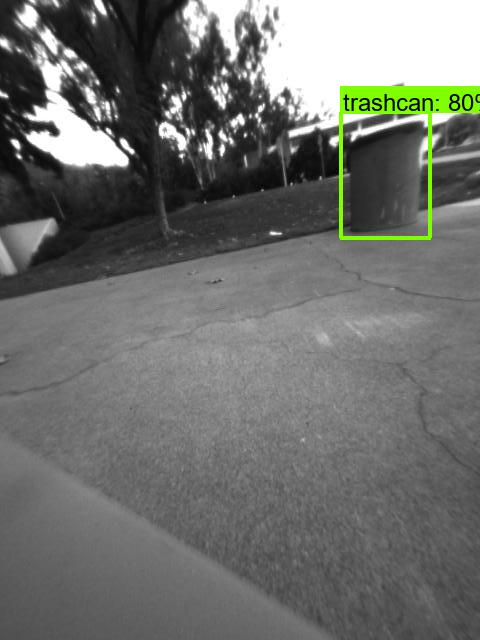trashcan: (347, 117, 425, 234)
